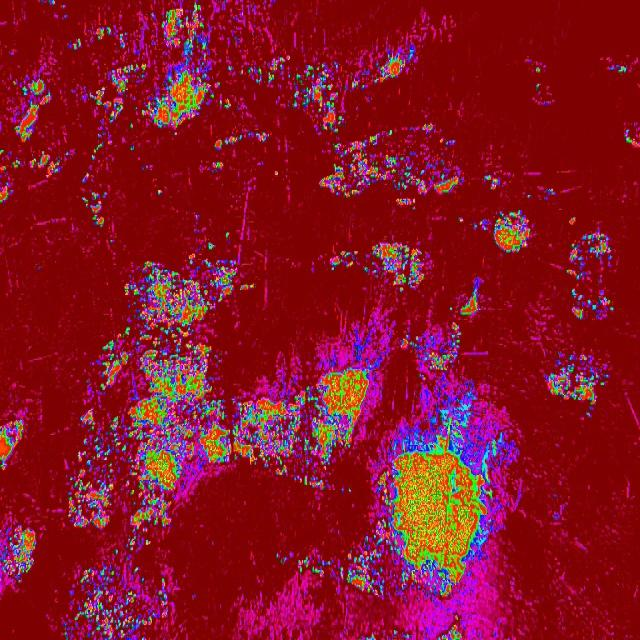fire: (69, 260, 239, 528), (368, 382, 510, 598), (238, 364, 368, 475), (151, 1, 217, 135), (320, 136, 464, 194), (61, 562, 154, 640), (291, 56, 347, 136), (546, 350, 608, 404), (400, 322, 462, 372), (364, 242, 428, 290), (106, 58, 152, 122), (564, 232, 614, 280), (0, 524, 38, 586), (13, 80, 51, 140), (494, 208, 533, 256), (369, 46, 418, 84), (570, 288, 614, 320), (211, 130, 277, 150), (0, 418, 24, 472), (346, 537, 369, 593), (290, 477, 352, 493), (122, 530, 150, 561), (82, 190, 106, 226), (27, 152, 61, 177), (296, 554, 334, 576), (459, 281, 480, 317), (156, 578, 172, 620), (330, 248, 359, 270), (268, 55, 286, 84), (432, 625, 466, 640), (621, 122, 640, 146), (245, 64, 262, 85), (87, 88, 105, 106), (468, 216, 491, 230), (482, 170, 498, 190), (0, 178, 13, 202), (95, 23, 112, 41), (272, 550, 290, 566), (347, 78, 371, 90), (606, 62, 628, 74), (114, 31, 128, 49), (216, 95, 232, 110), (66, 38, 82, 52), (91, 142, 102, 162), (397, 198, 418, 208), (421, 120, 434, 134), (542, 186, 556, 197), (358, 632, 376, 640), (211, 160, 225, 170), (583, 407, 595, 418), (11, 159, 23, 170), (404, 630, 417, 640), (568, 213, 578, 226), (240, 284, 256, 291), (390, 625, 400, 636), (112, 546, 121, 558), (534, 64, 544, 74), (140, 164, 150, 174), (80, 172, 89, 183), (338, 566, 346, 578), (0, 163, 8, 175), (456, 214, 465, 224), (453, 612, 461, 623), (536, 81, 544, 91), (0, 146, 6, 158), (207, 240, 214, 250), (223, 229, 230, 239), (42, 0, 56, 5), (130, 144, 136, 154), (274, 170, 280, 178), (387, 129, 394, 135), (130, 122, 136, 129), (157, 188, 161, 198), (526, 193, 532, 199), (228, 64, 233, 71), (449, 306, 454, 312), (109, 238, 114, 244), (218, 79, 222, 86)
